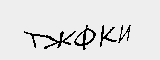К: (13, 18, 33, 36)
П: (33, 18, 49, 36)
Ф: (76, 13, 106, 42)
Х: (47, 16, 60, 33)
Ю: (111, 13, 156, 45)
Қ: (61, 16, 78, 40)
